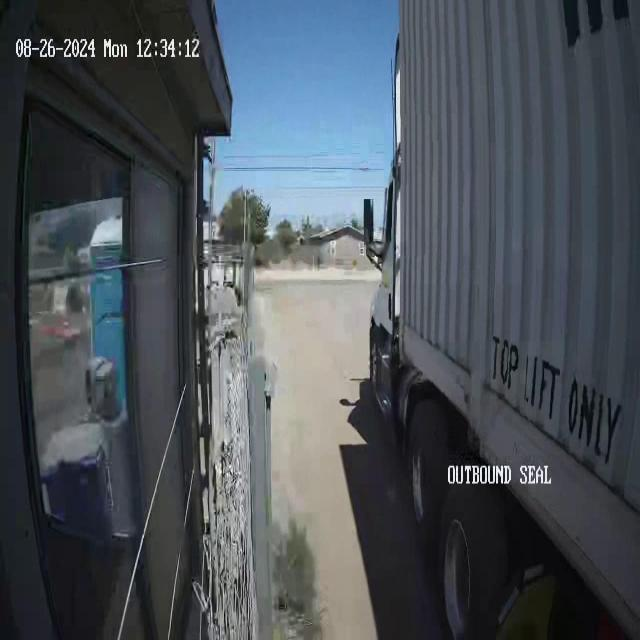TRUCK_OUT: (363, 1, 639, 637)
